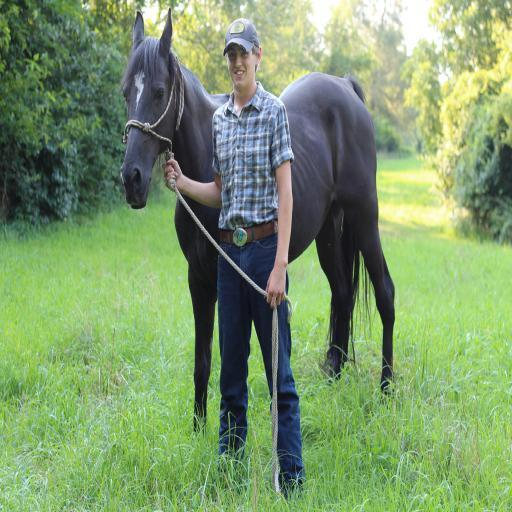horse: (118, 6, 398, 438)
